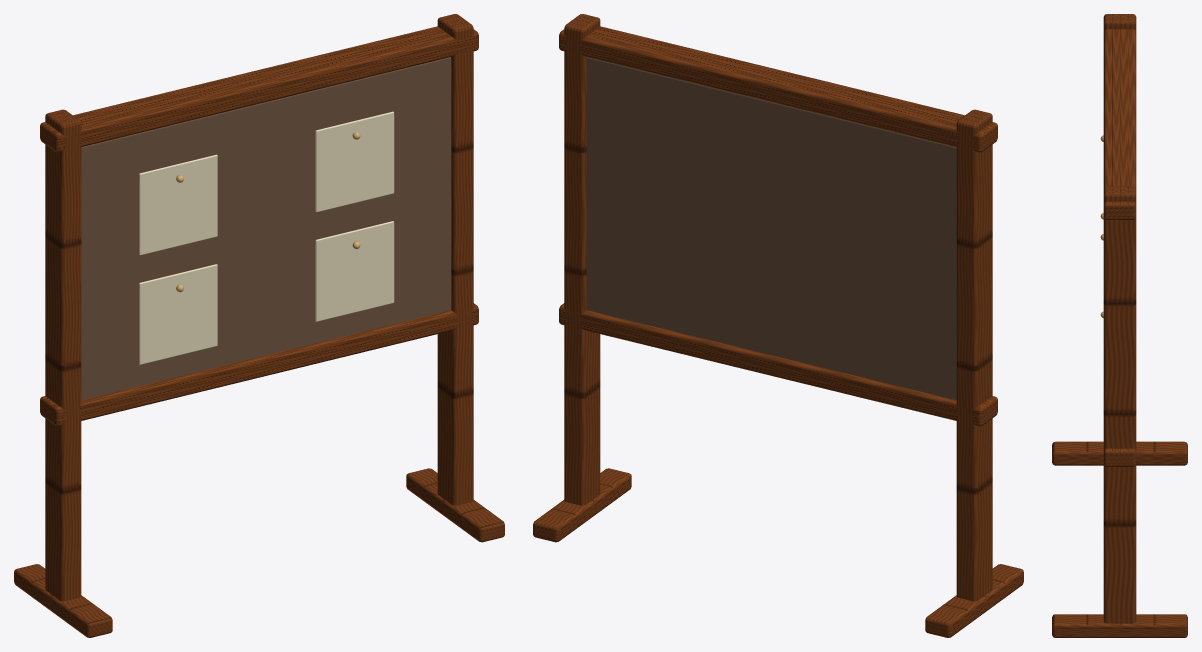
The model's file is adventurers-tavern-and-guild-hall-quest-board-ef28295c__24737.glb.
3 views of the same model, side by side, from view 1: azimuth 30°, elevation 25°; view 2: azimuth 150°, elevation 25°; view 3: azimuth 270°, elevation 25° (orthographic). The views are drawn at different scales.
Visible parts, largest first — view 1: quest-board; view 2: quest-board; view 3: quest-board.
Boxes of the visible parts, <box> form: quest-board: <box>14,14,504,637</box>; quest-board: <box>533,14,1023,637</box>; quest-board: <box>1052,14,1187,637</box>.
Size of the model in its own units: 1.62 by 1.8 by 0.4999.
Materials: 4 (1 with a texture image).
